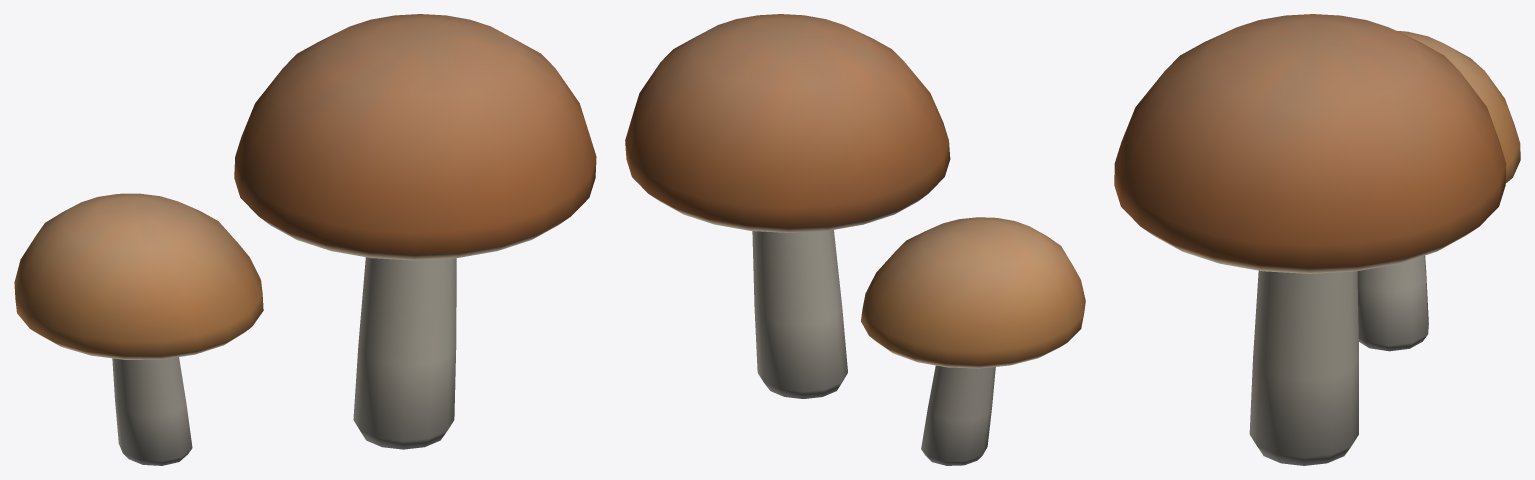
File: mushroom_pair.glb
The picture shows the model from 3 angles, left to right: view 1: azimuth 30°, elevation 25°; view 2: azimuth 150°, elevation 25°; view 3: azimuth 270°, elevation 25°; orthographic projection. The views are drawn at different scales.
Parts seen in each view (by area): view 1: mushroom_pair; view 2: mushroom_pair; view 3: mushroom_pair.
Boxes of the visible parts, box(x1,y1,x2,y2) form: mushroom_pair: box(14, 14, 596, 465); mushroom_pair: box(625, 14, 1085, 465); mushroom_pair: box(1114, 14, 1520, 465).
Bounding box in the file's own units: 0.2207 × 0.16 × 0.1412.
